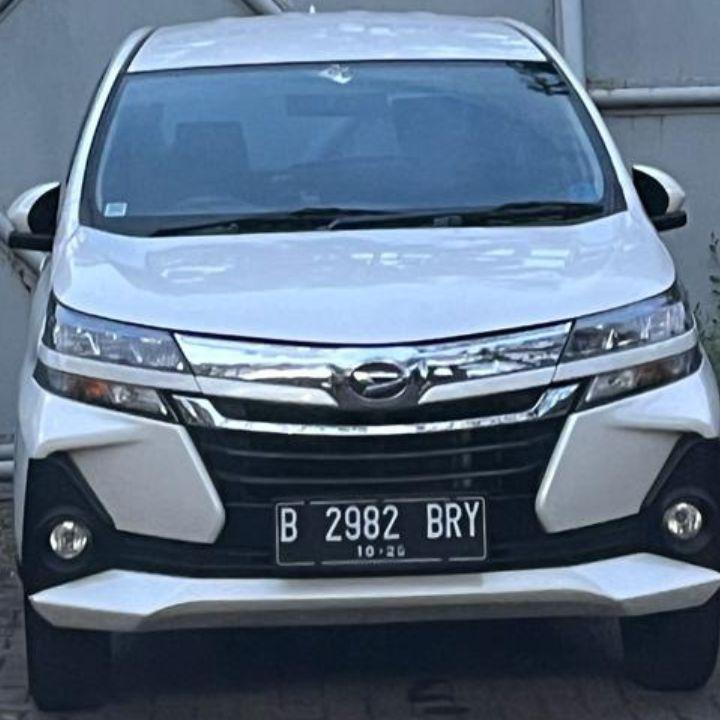plat: (276, 496, 487, 565)
